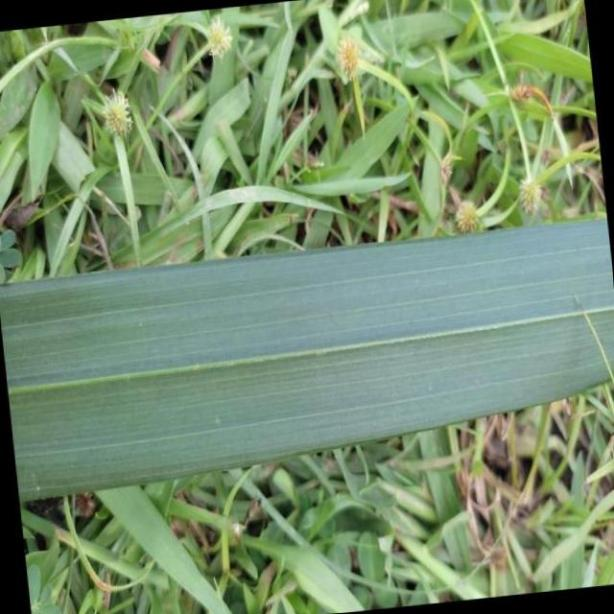Healthy: (0, 216, 614, 502)
